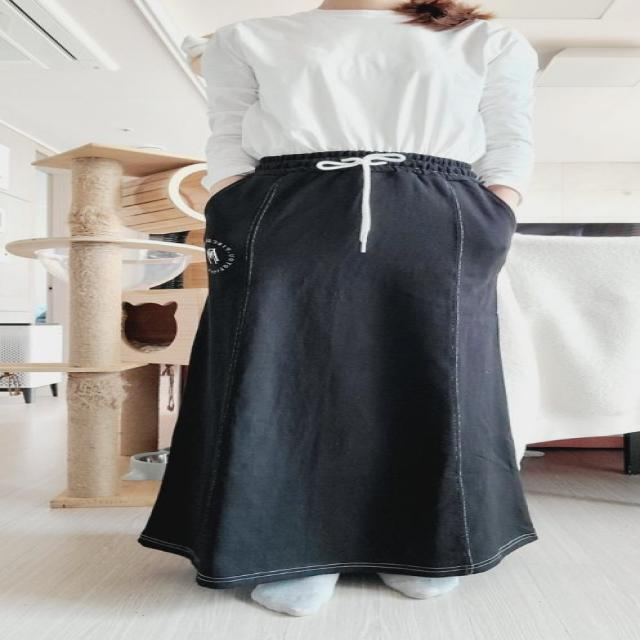longsleeve: (195, 10, 535, 212)
skirt: (129, 148, 539, 586)
